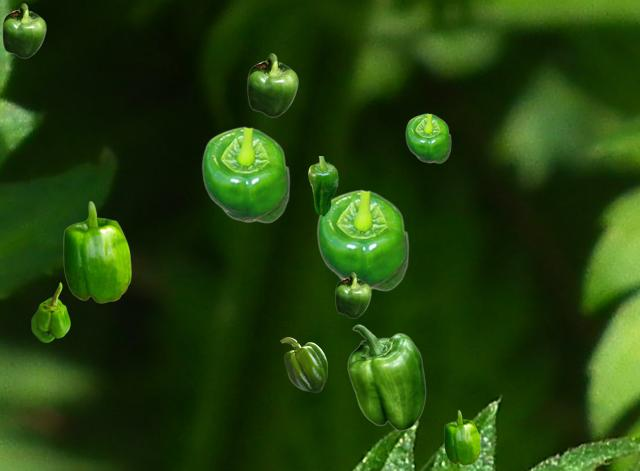bell_pepper: (316, 189, 408, 290), (201, 126, 289, 222), (347, 324, 425, 430), (63, 201, 130, 302), (247, 53, 297, 116), (280, 337, 326, 391), (2, 3, 45, 57), (31, 282, 69, 341), (405, 113, 450, 162), (444, 410, 479, 464), (308, 156, 337, 215), (335, 272, 370, 317)
